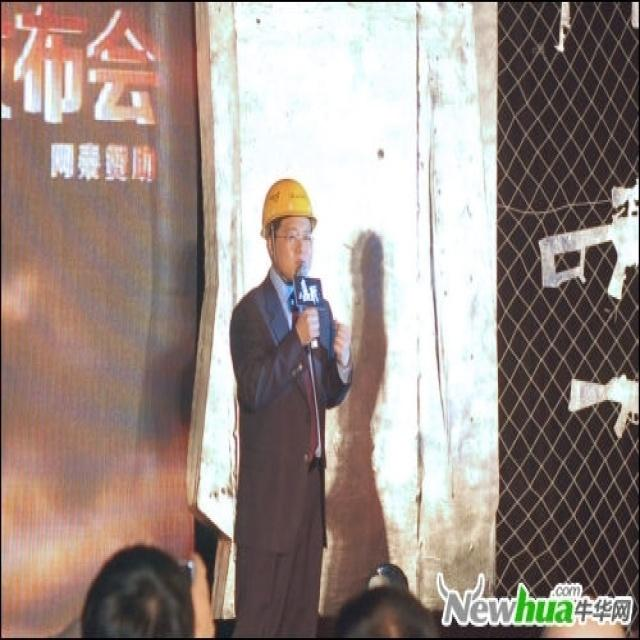helmet: (255, 235, 324, 380)
